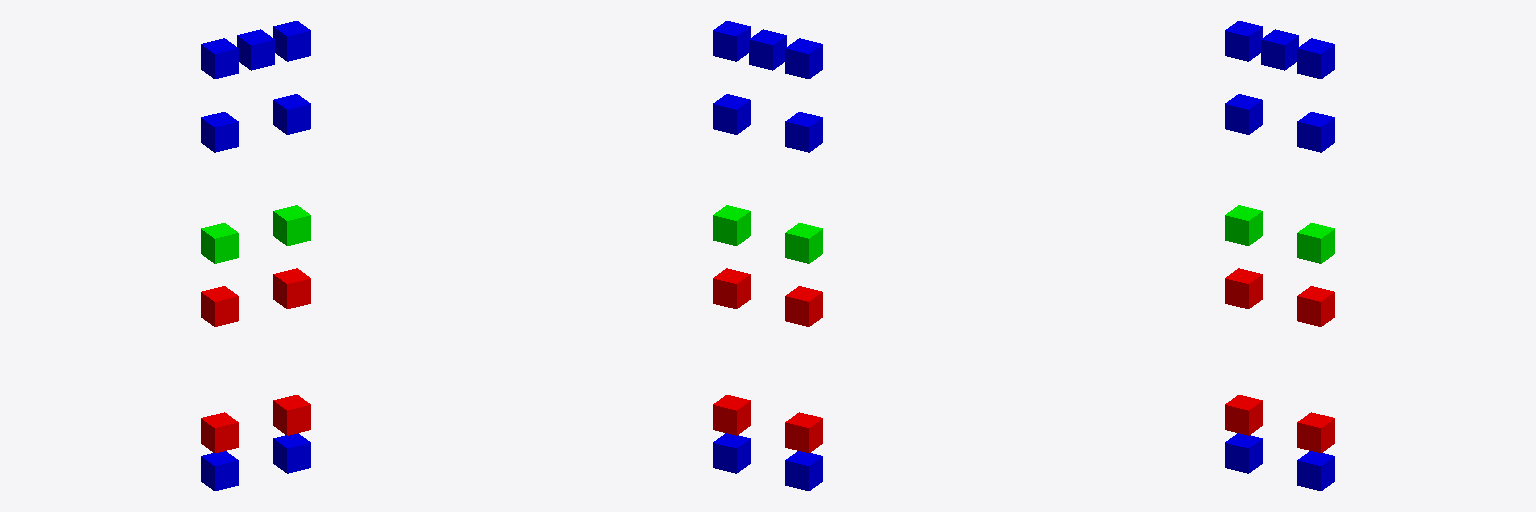
robot.urdf — axol:
<?xml version="1.0"?>
<robot name="axol">
  <link name="world"></link>

  <!-- Base -->
  <link name="base_link">
    <visual>
      <geometry>
        <box size="0.01 0.01 0.01"/>
      </geometry>
      <material name="black">
        <color rgba="0.0 0.0 0.0 1.0"/>
      </material>
    </visual>
  </link>

  <joint name="base_joint" type="fixed">
    <origin xyz="0 0 0" rpy="0 0 0"/>
    <parent link="world"/>
    <child link="base_link"/>
  </joint>

  <!-- ========== LEFT ARM (from base_link) ========== -->

  <link name="left_shoulder_1_link">
    <visual>
      <geometry><box size="0.05 0.05 0.05"/></geometry>
      <material name="blue"><color rgba="0.0 0.0 1.0 1.0"/></material>
    </visual>
  </link>
  <joint name="left_shoulder_1_joint" type="revolute">
    <parent link="base_link"/>
    <child link="left_shoulder_1_link"/>
    <origin xyz="0 0 0" rpy="0 0 0"/>
    <axis xyz="0 -1 0"/>
    <limit lower="-1.5708" upper="3.1416" effort="10" velocity="1.0"/>
  </joint>

  <link name="left_shoulder_2_link">
    <visual>
      <geometry><box size="0.05 0.05 0.05"/></geometry>
      <material name="blue"><color rgba="0.0 0.0 1.0 1.0"/></material>
    </visual>
  </link>
  <joint name="left_shoulder_2_joint" type="revolute">
    <parent link="left_shoulder_1_link"/>
    <child link="left_shoulder_2_link"/>
    <origin xyz="0.075 0 0" rpy="0 0 0"/>
    <axis xyz="-1 0 0"/>
    <limit lower="-0.349066" upper="3.1416" effort="10" velocity="1.0"/>
  </joint>

  <link name="left_shoulder_3_link">
    <visual>
      <geometry><box size="0.05 0.05 0.05"/></geometry>
      <material name="blue"><color rgba="0.0 0.0 1.0 1.0"/></material>
    </visual>
  </link>
  <joint name="left_shoulder_3_joint" type="revolute">
    <parent link="left_shoulder_2_link"/>
    <child link="left_shoulder_3_link"/>
    <origin xyz="0 0 -0.145" rpy="0 0 0"/>
    <axis xyz="0 0 -1"/>
    <limit lower="-1.5708" upper="1.5708" effort="10" velocity="1.0"/>
  </joint>

  <link name="left_elbow_link">
    <visual>
      <geometry><box size="0.05 0.05 0.05"/></geometry>
      <material name="green"><color rgba="0.0 1.0 0.0 1.0"/></material>
    </visual>
  </link>
  <joint name="left_elbow_joint" type="revolute">
    <parent link="left_shoulder_3_link"/>
    <child link="left_elbow_link"/>
    <origin xyz="0 0 -0.22" rpy="0 0 0"/>
    <axis xyz="-1 0 0"/>
    <limit lower="0" upper="2.27" effort="10" velocity="1.0"/>
  </joint>

  <link name="left_wrist_1_link">
    <visual>
      <geometry><box size="0.05 0.05 0.05"/></geometry>
      <material name="red"><color rgba="1.0 0.0 0.0 1.0"/></material>
    </visual>
  </link>
  <joint name="left_wrist_1_joint" type="revolute">
    <parent link="left_elbow_link"/>
    <child link="left_wrist_1_link"/>
    <origin xyz="0 0 -0.125" rpy="0 0 0"/>
    <axis xyz="0 0 -1"/>
    <limit lower="-1.5708" upper="1.5708" effort="10" velocity="1.0"/>
  </joint>

  <link name="left_wrist_2_link">
    <visual>
      <geometry><box size="0.05 0.05 0.05"/></geometry>
      <material name="red"><color rgba="1.0 0.0 0.0 1.0"/></material>
    </visual>
  </link>
  <joint name="left_wrist_2_joint" type="revolute">
    <parent link="left_wrist_1_link"/>
    <child link="left_wrist_2_link"/>
    <origin xyz="0 0 -0.25" rpy="0 0 0"/>
    <axis xyz="-1 0 0"/>
    <limit lower="-1.5708" upper="1.5708" effort="10" velocity="1.0"/>
  </joint>

  <link name="left_wrist_3_link">
    <visual>
      <geometry><box size="0.05 0.05 0.05"/></geometry>
      <material name="red"><color rgba="1.0 0.0 0.0 1.0"/></material>
    </visual>
  </link>
  <joint name="left_wrist_3_joint" type="revolute">
    <parent link="left_wrist_2_link"/>
    <child link="left_wrist_3_link"/>
    <origin xyz="0 0 0" rpy="0 0 0"/>
    <axis xyz="0 -1 0"/>
    <limit lower="-0.35" upper="0.35" effort="10" velocity="1.0"/>
  </joint>

  <link name="left_ee_link">
    <visual>
      <geometry><box size="0.05 0.05 0.05"/></geometry>
      <material name="blue"><color rgba="0.0 0.0 1.0 1.0"/></material>
    </visual>
  </link>
  <joint name="left_ee_joint" type="fixed">
    <parent link="left_wrist_3_link"/>
    <child link="left_ee_link"/>
    <origin xyz="0 0 -0.075" rpy="3.141592653589793 0 -1.5707963267948966"/>
  </joint>

  <!-- ========== RIGHT ARM (from base_link, mirrored in X) ========== -->

  <link name="right_shoulder_1_link">
    <visual>
      <geometry><box size="0.05 0.05 0.05"/></geometry>
      <material name="blue"><color rgba="0.0 0.0 1.0 1.0"/></material>
    </visual>
  </link>
  <joint name="right_shoulder_1_joint" type="revolute">
    <parent link="base_link"/>
    <child link="right_shoulder_1_link"/>
    <origin xyz="0 0 0" rpy="0 0 0"/>
    <axis xyz="0 1 0"/>
    <limit lower="-1.5708" upper="3.1416" effort="10" velocity="1.0"/>
  </joint>

  <link name="right_shoulder_2_link">
    <visual>
      <geometry><box size="0.05 0.05 0.05"/></geometry>
      <material name="blue"><color rgba="0.0 0.0 1.0 1.0"/></material>
    </visual>
  </link>
  <joint name="right_shoulder_2_joint" type="revolute">
    <parent link="right_shoulder_1_link"/>
    <child link="right_shoulder_2_link"/>
    <origin xyz="-0.075 0 0" rpy="0 0 0"/>
    <axis xyz="1 0 0"/>
    <limit lower="-3.1416" upper="0.349066" effort="10" velocity="1.0"/>
  </joint>

  <link name="right_shoulder_3_link">
    <visual>
      <geometry><box size="0.05 0.05 0.05"/></geometry>
      <material name="blue"><color rgba="0.0 0.0 1.0 1.0"/></material>
    </visual>
  </link>
  <joint name="right_shoulder_3_joint" type="revolute">
    <parent link="right_shoulder_2_link"/>
    <child link="right_shoulder_3_link"/>
    <origin xyz="0 0 -0.145" rpy="0 0 0"/>
    <axis xyz="0 0 1"/>
    <limit lower="-1.5708" upper="1.5708" effort="10" velocity="1.0"/>
  </joint>

  <link name="right_elbow_link">
    <visual>
      <geometry><box size="0.05 0.05 0.05"/></geometry>
      <material name="green"><color rgba="0.0 1.0 0.0 1.0"/></material>
    </visual>
  </link>
  <joint name="right_elbow_joint" type="revolute">
    <parent link="right_shoulder_3_link"/>
    <child link="right_elbow_link"/>
    <origin xyz="0 0 -0.22" rpy="0 0 0"/>
    <axis xyz="1 0 0"/>
    <limit lower="-2.27" upper="0" effort="10" velocity="1.0"/>
  </joint>

  <link name="right_wrist_1_link">
    <visual>
      <geometry><box size="0.05 0.05 0.05"/></geometry>
      <material name="red"><color rgba="1.0 0.0 0.0 1.0"/></material>
    </visual>
  </link>
  <joint name="right_wrist_1_joint" type="revolute">
    <parent link="right_elbow_link"/>
    <child link="right_wrist_1_link"/>
    <origin xyz="0 0 -0.125" rpy="0 0 0"/>
    <axis xyz="0 0 1"/>
    <limit lower="-1.5708" upper="1.5708" effort="10" velocity="1.0"/>
  </joint>

  <link name="right_wrist_2_link">
    <visual>
      <geometry><box size="0.05 0.05 0.05"/></geometry>
      <material name="red"><color rgba="1.0 0.0 0.0 1.0"/></material>
    </visual>
  </link>
  <joint name="right_wrist_2_joint" type="revolute">
    <parent link="right_wrist_1_link"/>
    <child link="right_wrist_2_link"/>
    <origin xyz="0 0 -0.25" rpy="0 0 0"/>
    <axis xyz="1 0 0"/>
    <limit lower="-1.5708" upper="1.5708" effort="10" velocity="1.0"/>
  </joint>

  <link name="right_wrist_3_link">
    <visual>
      <geometry><box size="0.05 0.05 0.05"/></geometry>
      <material name="red"><color rgba="1.0 0.0 0.0 1.0"/></material>
    </visual>
  </link>
  <joint name="right_wrist_3_joint" type="revolute">
    <parent link="right_wrist_2_link"/>
    <child link="right_wrist_3_link"/>
    <origin xyz="0 0 0" rpy="0 0 0"/>
    <axis xyz="0 1 0"/>
    <limit lower="-0.35" upper="0.35" effort="10" velocity="1.0"/>
  </joint>

  <link name="right_ee_link">
    <visual>
      <geometry><box size="0.05 0.05 0.05"/></geometry>
      <material name="blue"><color rgba="0.0 0.0 1.0 1.0"/></material>
    </visual>
  </link>
  <joint name="right_ee_joint" type="fixed">
    <parent link="right_wrist_3_link"/>
    <child link="right_ee_link"/>
    <origin xyz="0 0 -0.075" rpy="3.141592653589793 0 -1.5707963267948966"/>
  </joint>
</robot>

--- Render facts (derived) ---
3 views of the same robot in one strip: view 1: azimuth 30°, elevation 25°; view 2: azimuth 150°, elevation 25°; view 3: azimuth 330°, elevation 25° (orthographic).
Robot: axol — 18 links, 17 joints (14 revolute, 3 fixed); root link world; default pose: all joints at 0.
Visible links, largest first — view 1: left_shoulder_3_link, left_wrist_2_link, right_shoulder_2_link, right_wrist_1_link, left_elbow_link, left_wrist_1_link, right_elbow_link, right_wrist_2_link, right_shoulder_3_link, left_ee_link, right_ee_link, left_shoulder_1_link (+1 smaller); view 2: left_shoulder_3_link, left_wrist_2_link, right_shoulder_2_link, right_wrist_1_link, left_elbow_link, left_wrist_1_link, right_elbow_link, right_wrist_2_link, right_shoulder_3_link, left_ee_link, right_ee_link, left_shoulder_1_link (+1 smaller); view 3: right_shoulder_3_link, left_shoulder_2_link, left_wrist_1_link, right_wrist_2_link, left_elbow_link, left_wrist_2_link, right_elbow_link, right_wrist_1_link, left_shoulder_3_link, left_ee_link, right_ee_link, left_shoulder_1_link (+1 smaller).
Link boxes in pixels (x1,y1,x2,y2): left_shoulder_3_link: (273, 94, 310, 134); left_wrist_2_link: (273, 395, 310, 435); right_shoulder_2_link: (201, 38, 238, 78); right_wrist_1_link: (201, 286, 238, 326); left_elbow_link: (273, 205, 310, 245); left_wrist_1_link: (273, 268, 310, 308); right_elbow_link: (201, 223, 238, 263); right_wrist_2_link: (201, 412, 238, 452); right_shoulder_3_link: (201, 112, 238, 152); left_ee_link: (273, 433, 310, 473); right_ee_link: (201, 451, 238, 490); left_shoulder_1_link: (237, 29, 274, 70); left_shoulder_3_link: (713, 94, 750, 134); left_wrist_2_link: (713, 395, 750, 435); right_shoulder_2_link: (785, 38, 822, 78); right_wrist_1_link: (785, 286, 822, 326); left_elbow_link: (713, 205, 750, 245); left_wrist_1_link: (713, 268, 750, 308); right_elbow_link: (785, 223, 822, 263); right_wrist_2_link: (785, 412, 822, 452); right_shoulder_3_link: (785, 112, 822, 152); left_ee_link: (713, 433, 750, 473); right_ee_link: (785, 451, 822, 490); left_shoulder_1_link: (749, 29, 786, 70); right_shoulder_3_link: (1225, 94, 1262, 134); left_shoulder_2_link: (1297, 38, 1334, 78); left_wrist_1_link: (1297, 286, 1334, 326); right_wrist_2_link: (1225, 395, 1262, 435); left_elbow_link: (1297, 223, 1334, 263); left_wrist_2_link: (1297, 412, 1334, 452); right_elbow_link: (1225, 205, 1262, 245); right_wrist_1_link: (1225, 268, 1262, 308); left_shoulder_3_link: (1297, 112, 1334, 152); left_ee_link: (1297, 451, 1334, 490); right_ee_link: (1225, 433, 1262, 473); left_shoulder_1_link: (1261, 29, 1298, 70).
Bounding box of the posed robot: 0.2 × 0.05 × 0.865 m (x, y, z).
Geometry: primitives only (box / cylinder / sphere), no mesh files.
